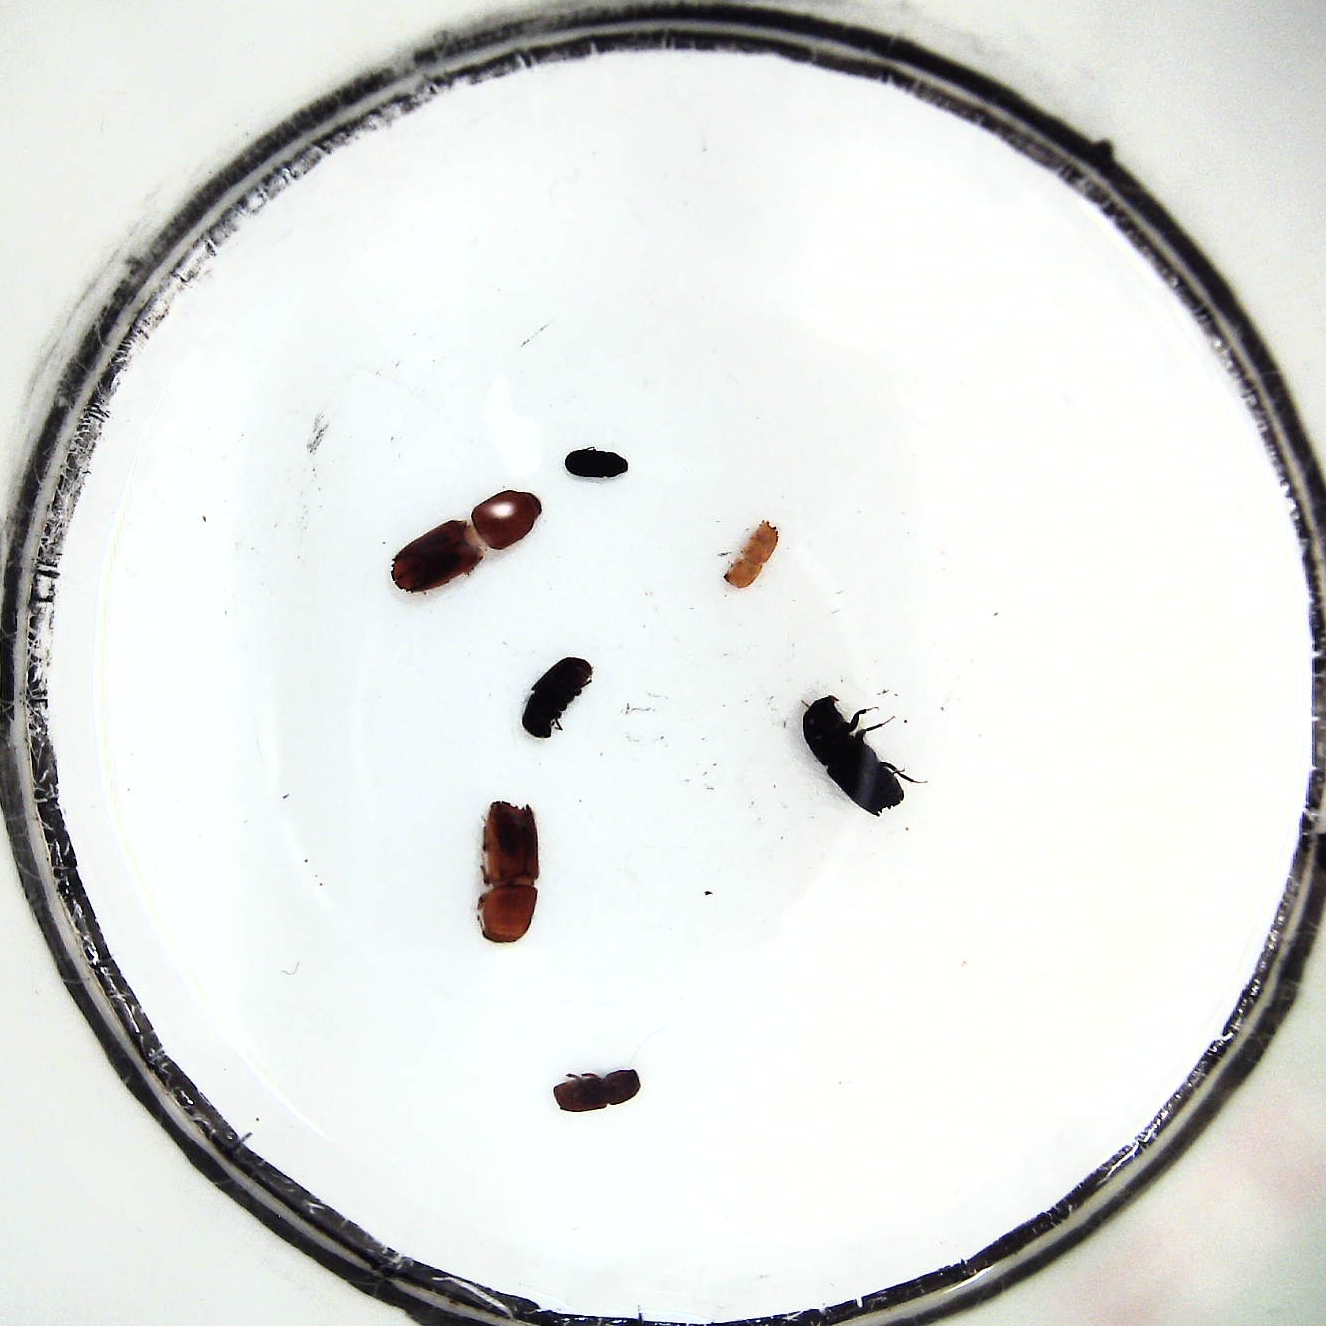Boerner: (386, 489, 544, 595), (803, 695, 906, 824), (474, 795, 544, 945)
Linnaeus: (546, 1064, 642, 1117)
acuminatus: (721, 522, 780, 593)
armandi: (517, 654, 594, 739)
coleoptera: (562, 448, 628, 480)
